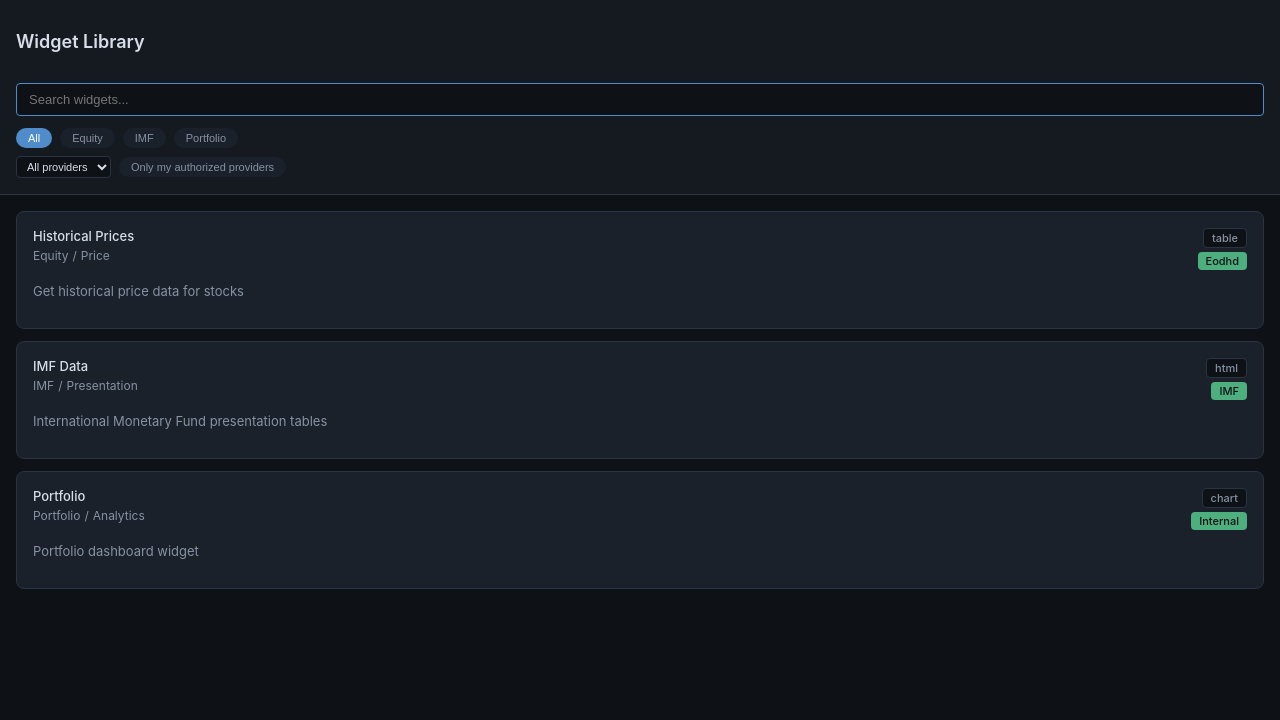
it: WidgetLibrary › provider filtering › narrows the grid to the selected provider
Select "Eodhd" in the dropdown named "Filter by provider". click: (64, 167)
box: [16,156,111,178]
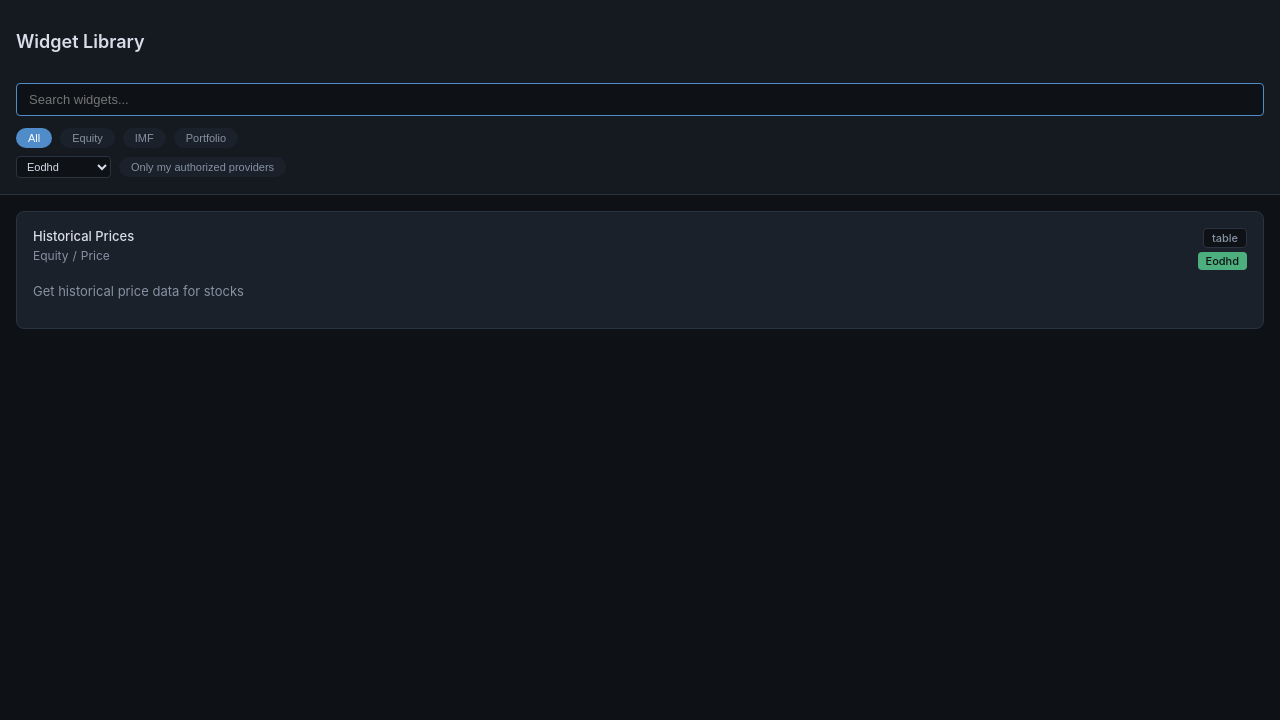
Check: the text "Historical Prices" is shown, box [33,228,134,244]
Check: the button "IMF Data" is gone
